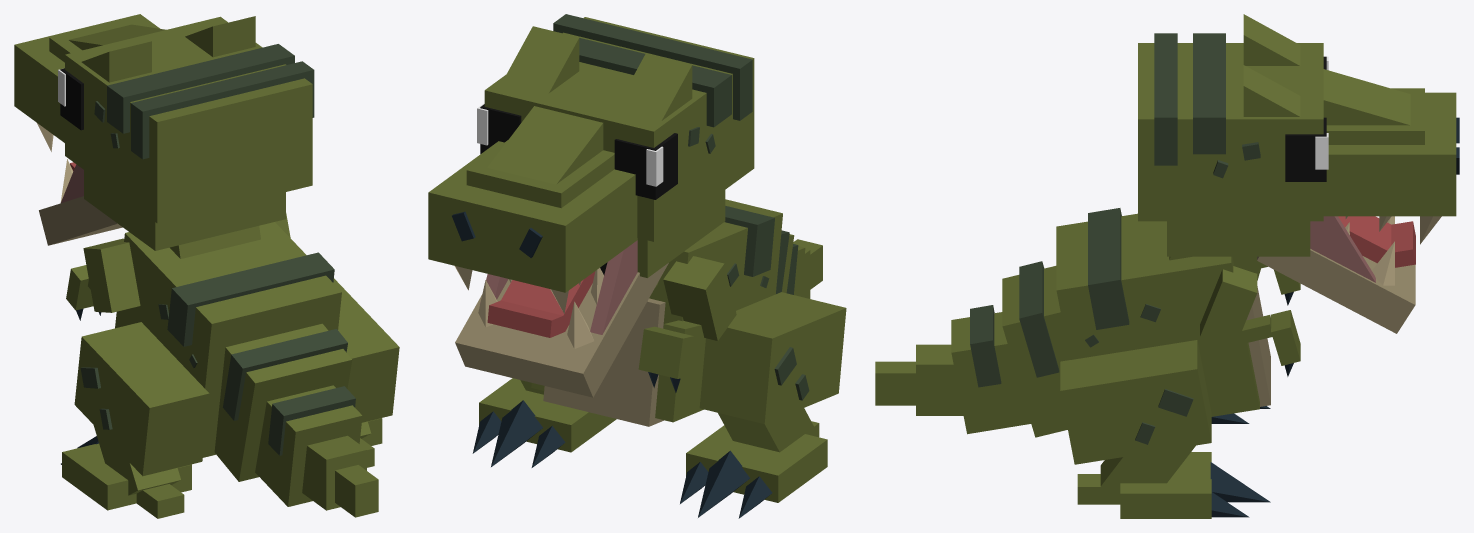
File: rex.obj
3 views of the same model, side by side, from view 1: azimuth 30°, elevation 25°; view 2: azimuth 150°, elevation 25°; view 3: azimuth 270°, elevation 25° (orthographic). The views are drawn at different scales.
Parts seen in each view (by area): view 1: head, torso, leg_L, tail01, tail02, leg_R, arm_L, mouth, tail03, tail04; view 2: head, leg_L, mouth, torso, arm_L, leg_R, tail01, tail02, tail04; view 3: head, leg_R, torso, mouth, tail01, tail02, arm_R, tail03, tail04.
Part boxes in pixels (bbox=[...]): head: bbox=[14, 14, 314, 250]; torso: bbox=[115, 222, 341, 457]; leg_L: bbox=[61, 322, 209, 518]; tail01: bbox=[214, 323, 352, 481]; tail02: bbox=[255, 385, 362, 506]; leg_R: bbox=[333, 278, 399, 467]; arm_L: bbox=[66, 238, 140, 320]; mouth: bbox=[39, 159, 122, 245]; tail03: bbox=[302, 435, 366, 510]; tail04: bbox=[335, 465, 378, 517]; head: bbox=[428, 14, 754, 313]; leg_L: bbox=[680, 292, 846, 518]; mouth: bbox=[455, 240, 668, 397]; torso: bbox=[531, 199, 782, 426]; arm_L: bbox=[638, 256, 736, 392]; leg_R: bbox=[472, 378, 616, 467]; tail01: bbox=[776, 230, 794, 293]; tail02: bbox=[786, 244, 805, 296]; tail04: bbox=[793, 239, 822, 289]; head: bbox=[1138, 14, 1459, 256]; leg_R: bbox=[1060, 340, 1270, 518]; torso: bbox=[1056, 208, 1270, 416]; mouth: bbox=[1257, 216, 1415, 333]; tail01: bbox=[1002, 261, 1069, 437]; tail02: bbox=[951, 305, 1031, 434]; arm_R: bbox=[1200, 266, 1300, 376]; tail03: bbox=[916, 344, 963, 415]; tail04: bbox=[875, 361, 915, 405].
Bounding box in the file's own units: 6.5 × 9.12 × 11.9.
